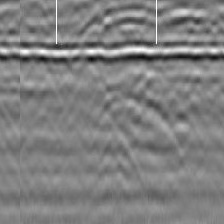Utility: (98, 92, 182, 176)
